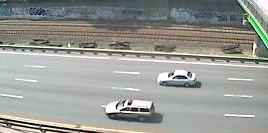car: (103, 96, 162, 124), (155, 68, 200, 91)
